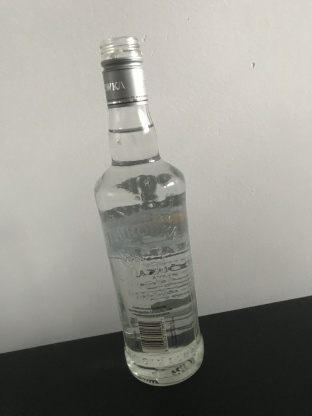nakretka: (97, 34, 149, 111)
